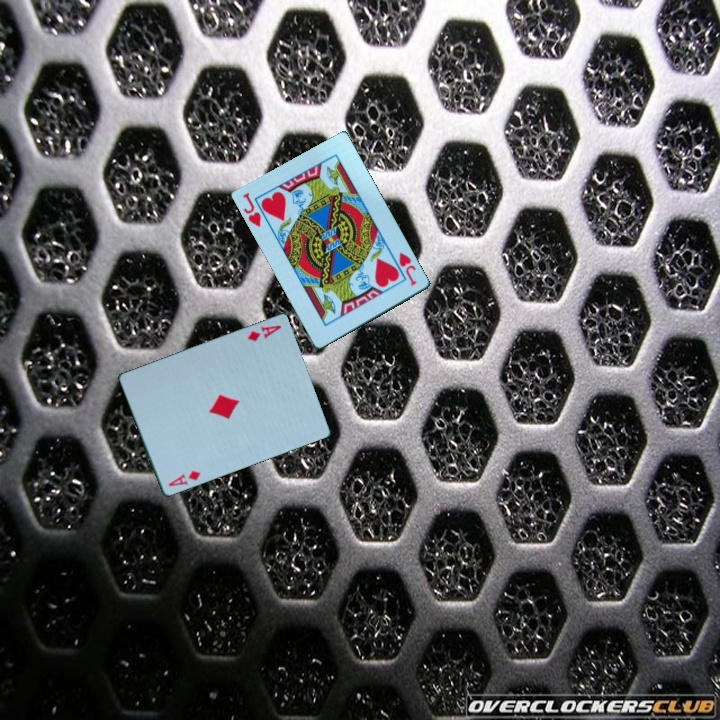Ad: (164, 467, 204, 490), (244, 322, 284, 345)
Jh: (239, 189, 264, 230), (396, 249, 420, 289)
